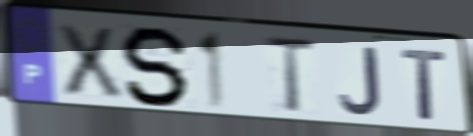1: (196, 28, 227, 114)
J: (337, 45, 384, 117)
S: (118, 24, 193, 110)
T: (261, 35, 318, 116), (399, 46, 451, 124)
X: (52, 22, 127, 100)
